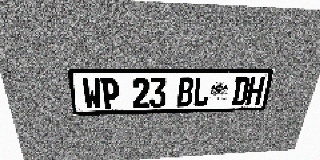2: (132, 78, 149, 108)
3: (150, 77, 167, 108)
B: (177, 77, 195, 107)
D: (231, 77, 251, 105)
H: (245, 77, 266, 105)
L: (192, 77, 211, 107)
P: (100, 78, 120, 109)
W: (81, 78, 102, 109)
